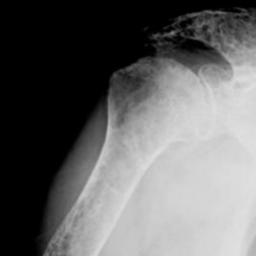cancer: (39, 55, 256, 256)
